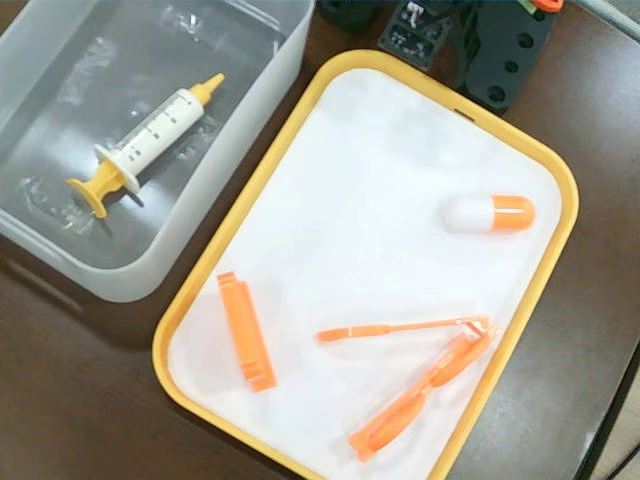pill: (439, 191, 537, 235)
syringe: (66, 72, 226, 218)
